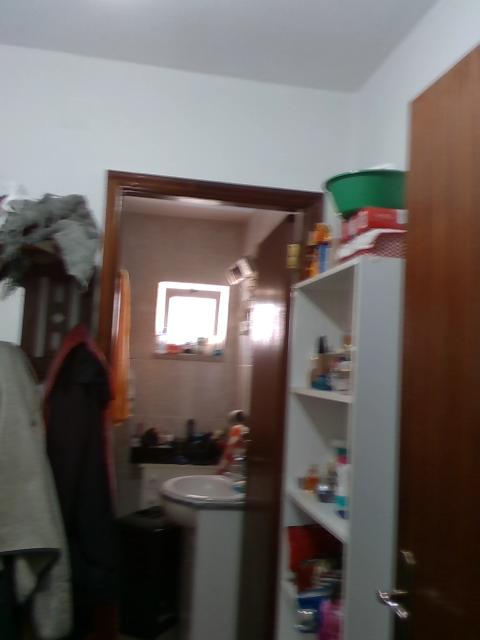open_door: (94, 169, 327, 638)
